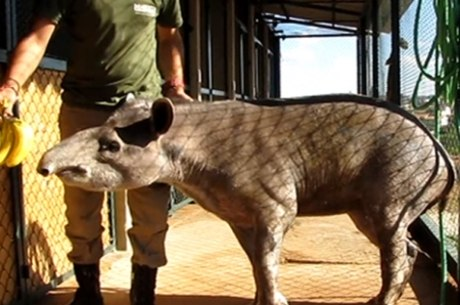Anta: (31, 90, 456, 292)
